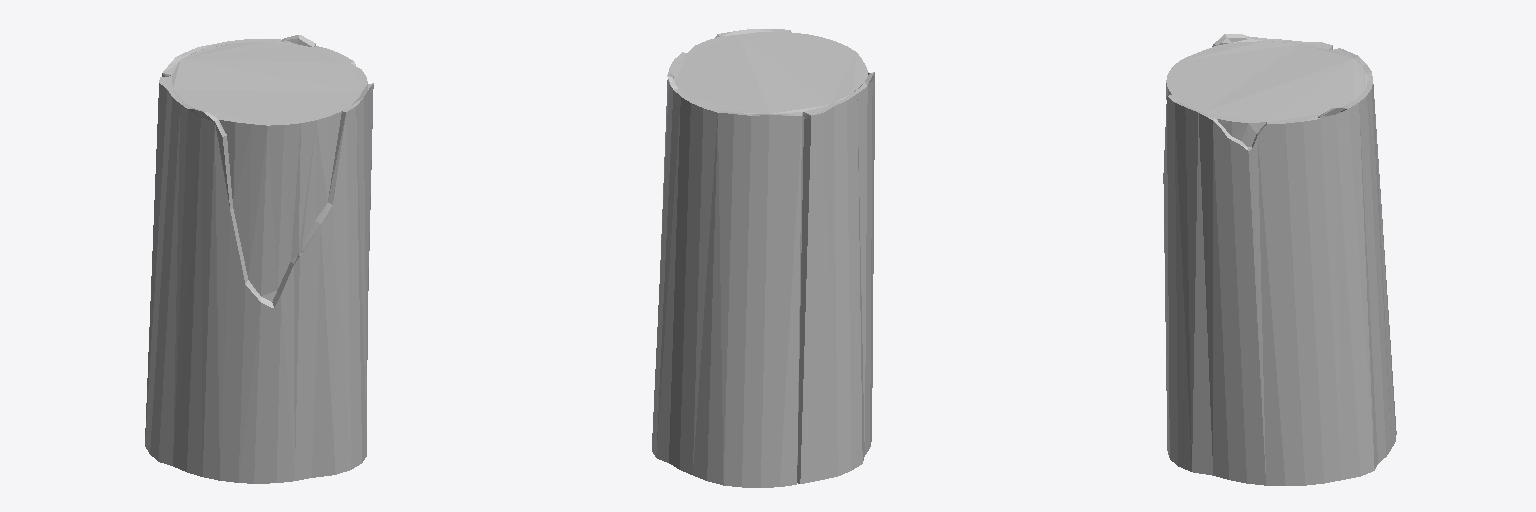
File: treeStump2.obj
3 renders of one model, left to right at view 1: azimuth 30°, elevation 25°; view 2: azimuth 150°, elevation 25°; view 3: azimuth 270°, elevation 25°, orthographic.
Parts seen in each view (by area): view 1: treeStump; view 2: treeStump; view 3: treeStump.
Part boxes in pixels (left/top/right/bottom): treeStump: left=145, top=35, right=373, bottom=483; treeStump: left=652, top=29, right=874, bottom=487; treeStump: left=1163, top=34, right=1396, bottom=485.
Size of the model in its own units: 1 by 1.83 by 1.05.